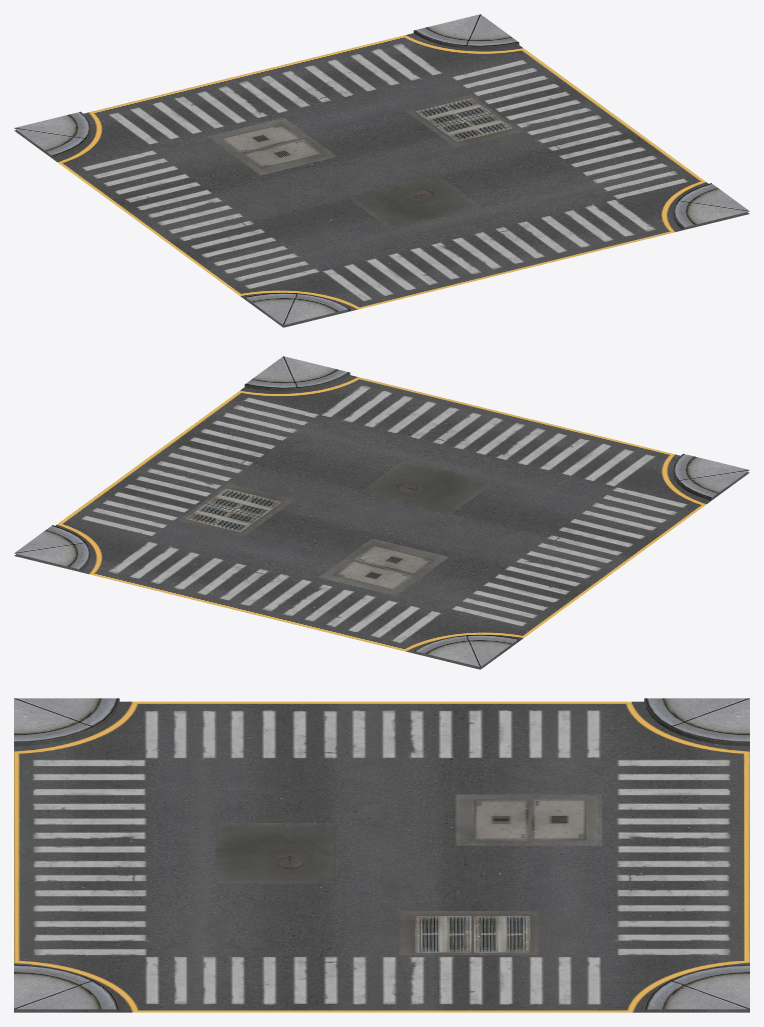
The model's file is square.glb.
The picture shows the model from 3 angles, top to bottom: view 1: azimuth 30°, elevation 25°; view 2: azimuth 150°, elevation 25°; view 3: azimuth 270°, elevation 25°; orthographic projection. The views are drawn at different scales.
Visible parts, largest first — view 1: Road_X_Intersection; view 2: Road_X_Intersection; view 3: Road_X_Intersection.
Boxes of the visible parts, box(x1,y1,x2,y2) form: Road_X_Intersection: box(14, 14, 749, 327); Road_X_Intersection: box(14, 356, 749, 669); Road_X_Intersection: box(14, 698, 749, 1012).
Bounding box in the file's own units: 37.92 × 0.2045 × 37.92.
2 materials, 2 textured.
